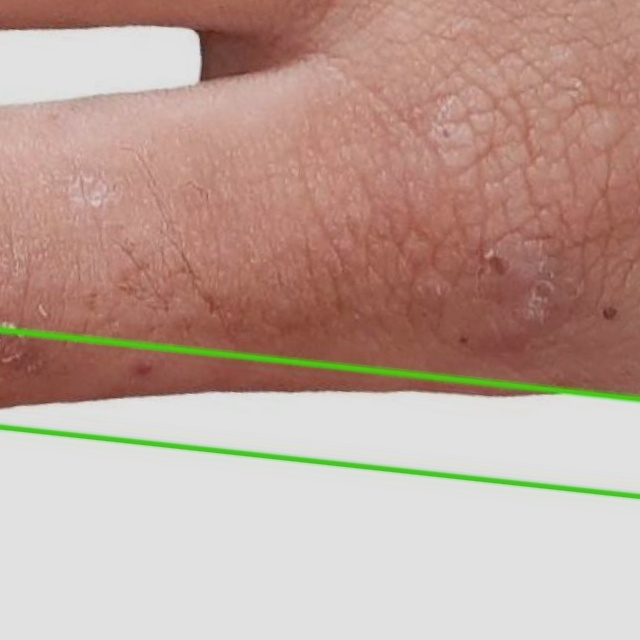Scabies: (0, 0, 639, 496), (0, 329, 639, 639)
